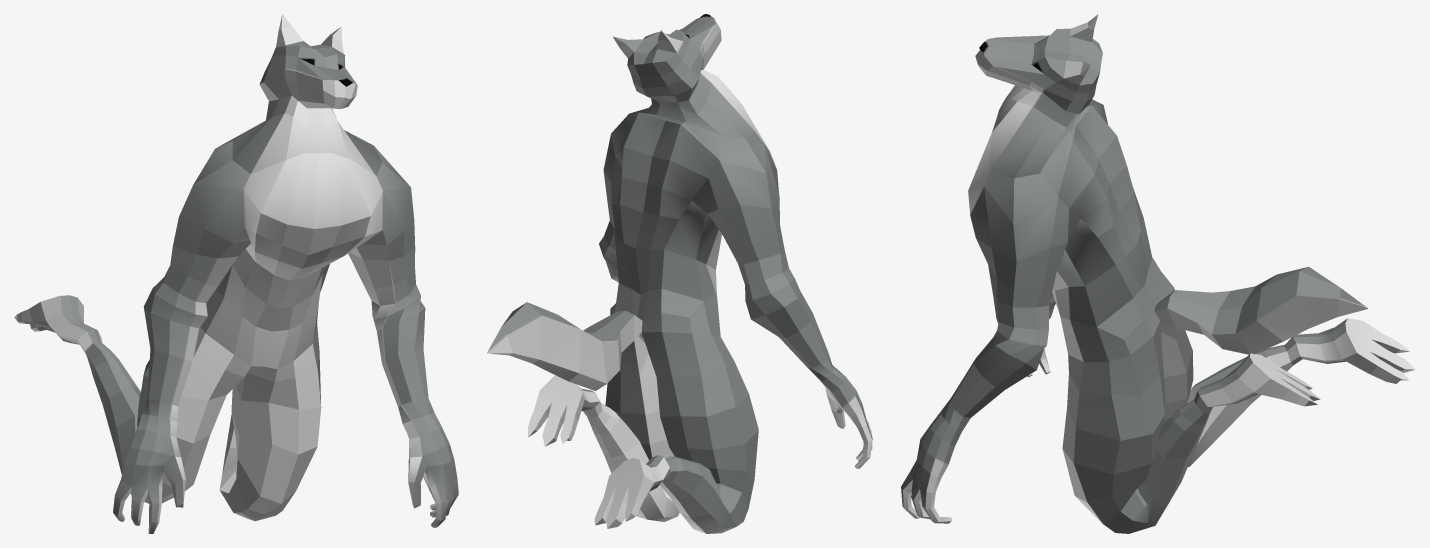
The model's file is WolfDead(52).obj.
3 renders of one model, left to right at view 1: azimuth 30°, elevation 25°; view 2: azimuth 150°, elevation 25°; view 3: azimuth 270°, elevation 25°, orthographic. The views are drawn at different scales.
Parts seen in each view (by area): view 1: Box001; view 2: Box001; view 3: Box001.
Part boxes in pixels (<box>): Box001: <box>14,14,458,533</box>; Box001: <box>487,14,872,533</box>; Box001: <box>901,14,1415,533</box>.
Bounding box in the file's own units: 72.89 × 120 × 108.
